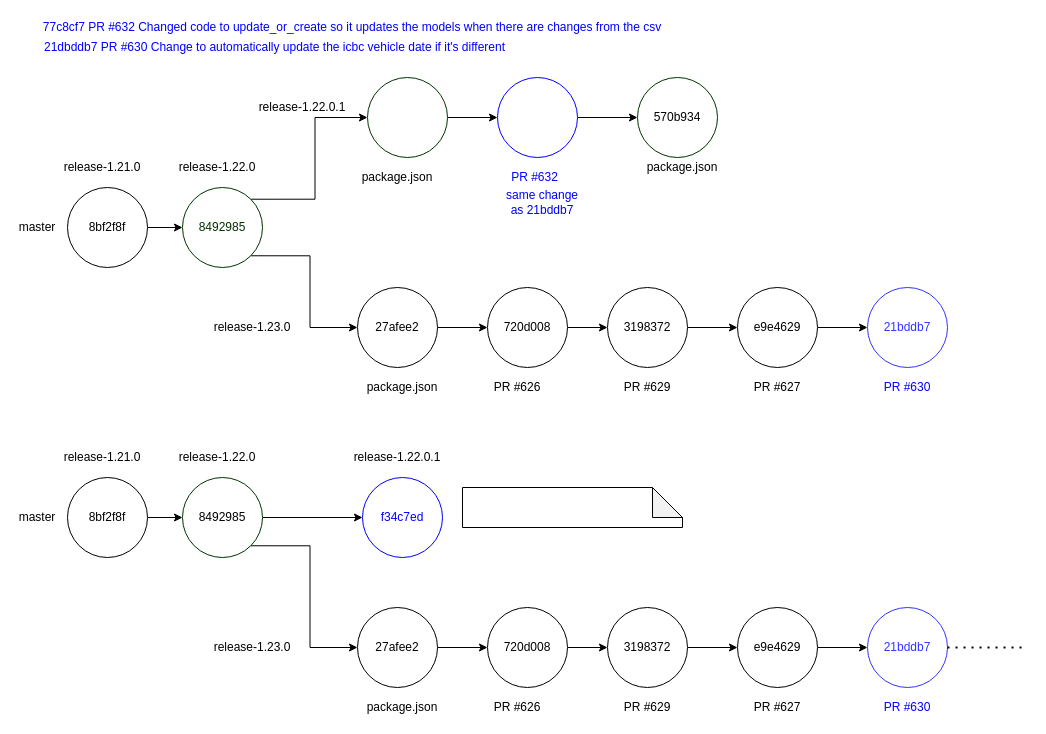
The diagram is 1046 pixels wide and 734 high, and some of its shapes have lost their labels. Each missing label, with the centre of its shape:
77c8cf7: (x=537, y=117)
872c0b2: (x=407, y=117)
Squash merge release-1.22.0.1 to master after it is deployed on Prod: (x=572, y=507)
